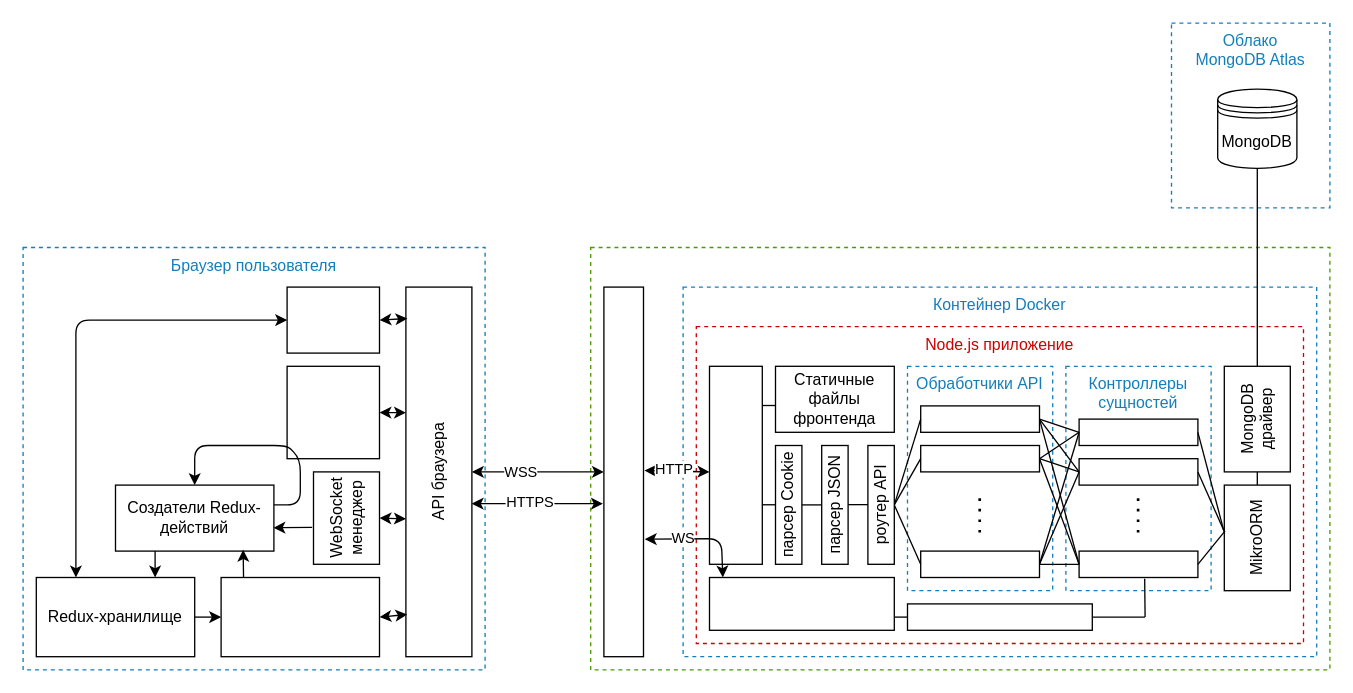
This 1353x693 diagram has some shape labels left out. Each missing label, with the box of its shape:
Express.js сервер: (708, 365, 762, 564)
NGINX: (603, 286, 644, 657)
React.js: (220, 576, 380, 657)
WebSocket контроллер: (906, 603, 1092, 630)
WebSocket сервер: (708, 576, 894, 630)
Роутер: (286, 286, 380, 353)
Сервер Ubuntu 18.04: (589, 246, 1330, 670)
Функции-обертки API: (286, 365, 380, 459)
